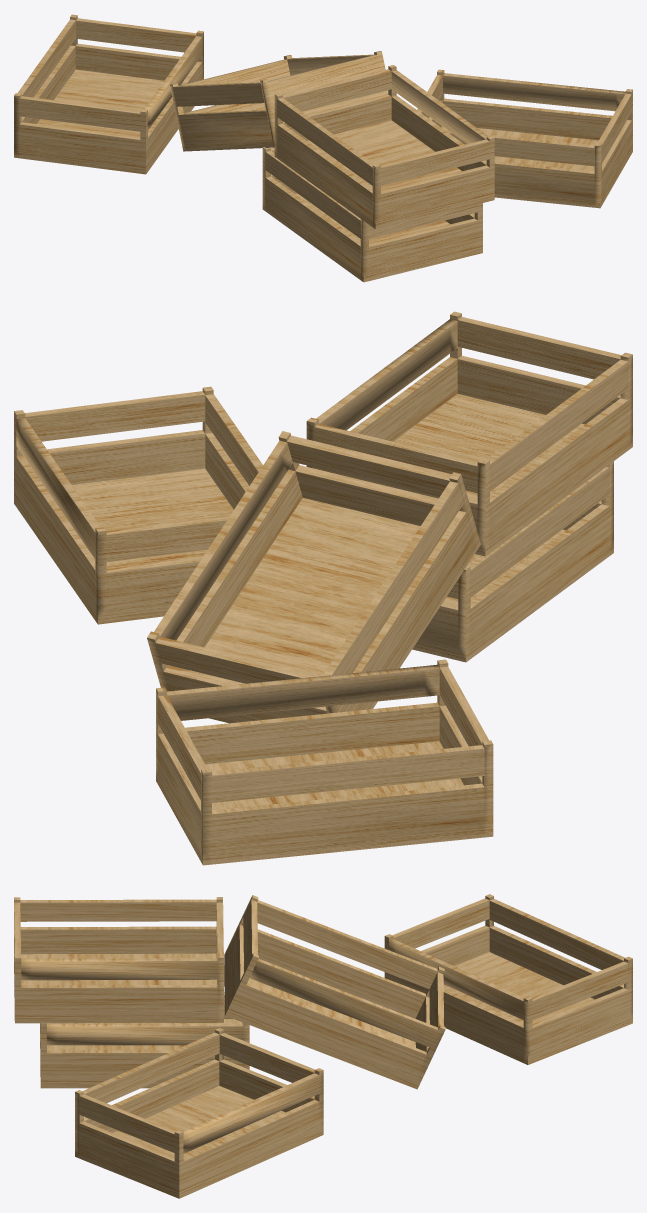
Rendered from Pile_of_Crates.fbx.
3 renders of one model, top to bottom at view 1: azimuth 30°, elevation 25°; view 2: azimuth 150°, elevation 25°; view 3: azimuth 270°, elevation 25°, orthographic. The views are drawn at different scales.
Visible parts, largest first — view 1: Pile_of_Crates; view 2: Pile_of_Crates; view 3: Pile_of_Crates.
Boxes of the visible parts, x1=… form: Pile_of_Crates: x1=14, y1=14, x2=632, y2=282; Pile_of_Crates: x1=14, y1=311, x2=632, y2=865; Pile_of_Crates: x1=14, y1=894, x2=632, y2=1198.
Size of the model in its own units: 149 by 38.87 by 163.
1 material, 1 textured.
